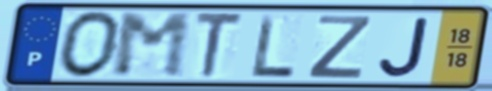J: (377, 15, 433, 80)
L: (250, 12, 297, 80)
M: (111, 11, 194, 80)
O: (57, 9, 126, 81)
T: (193, 10, 247, 82)
Z: (304, 13, 375, 80)
